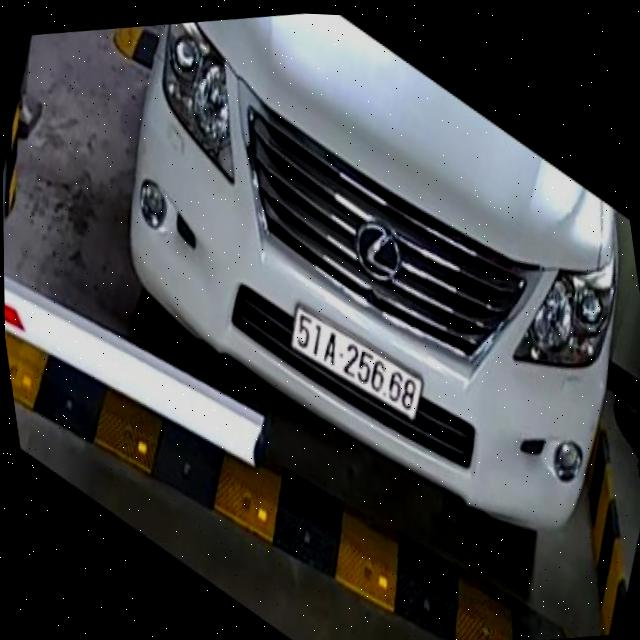car: (90, 4, 640, 591)
plate: (280, 284, 430, 440)
